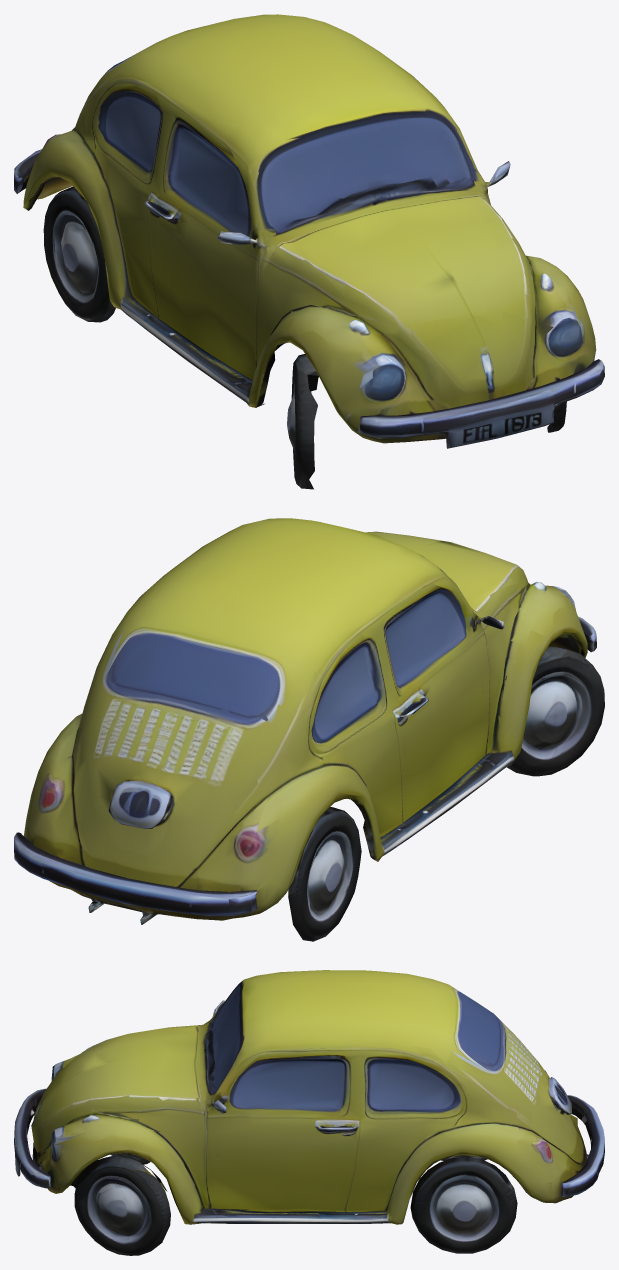
The model's file is Volkswagen_Beetle_low.fbx.
3 renders of one model, top to bottom at view 1: azimuth 30°, elevation 25°; view 2: azimuth 150°, elevation 25°; view 3: azimuth 270°, elevation 25°, orthographic. The views are drawn at different scales.
Parts seen in each view (by area): view 1: escarabajo; view 2: escarabajo; view 3: escarabajo.
Boxes of the visible parts, x1,y1,x2,y2 form: escarabajo: (14, 14, 604, 489); escarabajo: (14, 518, 604, 941); escarabajo: (14, 970, 604, 1255).
Bounding box in the file's own units: 66.24 × 59.21 × 144.
